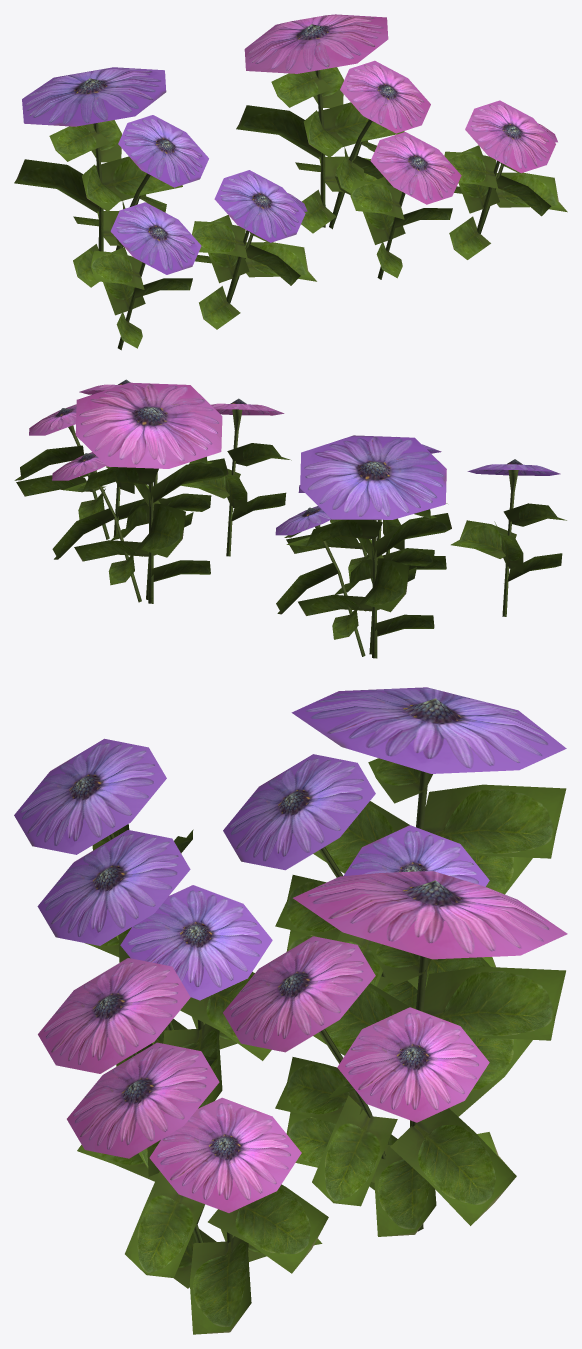
File: flower.FBX
3 views of the same model, one above another, from view 1: azimuth 30°, elevation 25°; view 2: azimuth 150°, elevation 25°; view 3: azimuth 270°, elevation 25° (orthographic). The views are drawn at different scales.
Visible parts, largest first — view 1: flower4, flower1, flower2, flower5, flower3, flower6; view 2: flower1, flower4, flower3, flower5, flower6, flower2; view 3: flower4, flower1, flower5, flower2, flower6, flower3.
Part boxes in pixels (x1,y1,x2,y2): flower4: (236, 14, 430, 233); flower1: (14, 67, 208, 287); flower2: (192, 170, 316, 329); flower5: (444, 100, 567, 259); flower3: (90, 202, 201, 350); flower6: (350, 132, 461, 279); flower1: (275, 435, 451, 658); flower4: (52, 382, 228, 603); flower3: (451, 459, 566, 616); flower5: (14, 379, 165, 539); flower6: (181, 398, 291, 556); flower2: (284, 444, 447, 583); flower4: (223, 871, 567, 1236); flower1: (223, 687, 566, 1009); flower5: (67, 1042, 328, 1334); flower2: (37, 830, 272, 1108); flower6: (38, 958, 216, 1181); flower3: (14, 738, 193, 957).
Bounding box in the file's own units: 65.36 × 24.87 × 37.06.
